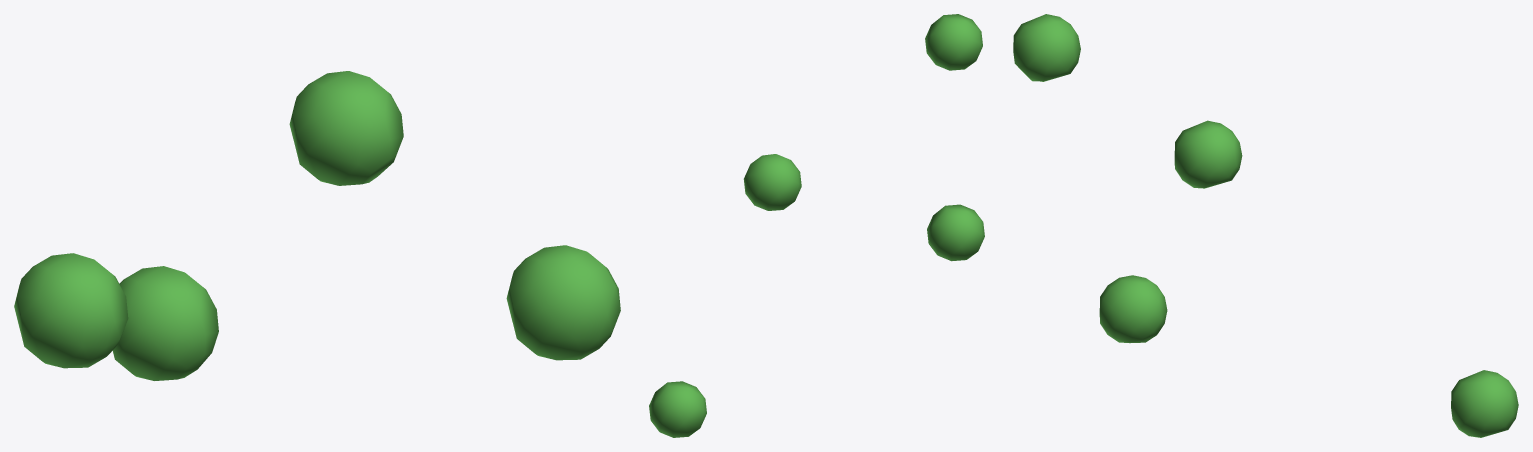
The model's file is linfatico-inferior-gluteal-nodes-l.glb.
3 renders of one model, left to right at view 1: azimuth 30°, elevation 25°; view 2: azimuth 150°, elevation 25°; view 3: azimuth 270°, elevation 25°, orthographic. The views are drawn at different scales.
Visible parts, largest first — view 1: Inferior gluteal nodes.l; view 2: Inferior gluteal nodes.l; view 3: Inferior gluteal nodes.l.
Boxes of the visible parts, left/top/right/bottom form: Inferior gluteal nodes.l: left=14, top=71, right=620, bottom=380; Inferior gluteal nodes.l: left=649, top=14, right=984, bottom=437; Inferior gluteal nodes.l: left=1013, top=14, right=1518, bottom=437.
Bounding box in the file's own units: 0.0135 × 0.0149 × 0.0188.
